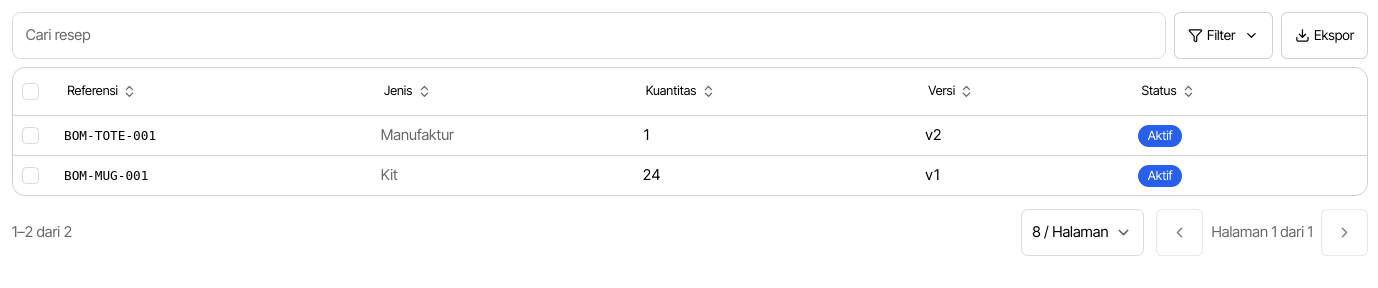
Test: ProductBoms › filters recipes through the search box
In the search field with placeholder "Cari resep": x=589, y=35 [12,12,1166,59], type "MUG"
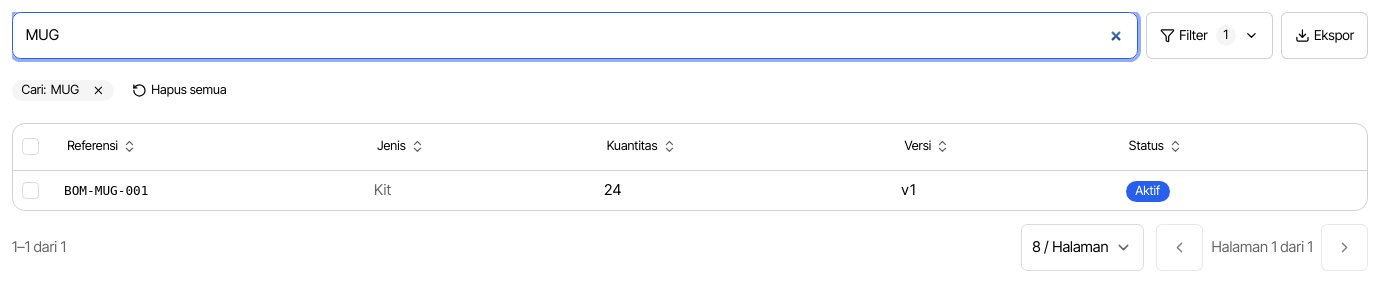
Check: the text "BOM-MUG-001" is shown, box [64,183,148,198]
Check: the text "BOM-TOTE-001" is gone
